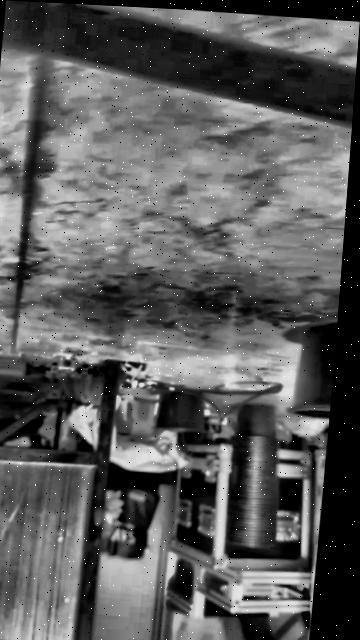pot: (287, 323, 337, 420), (155, 389, 207, 434)
